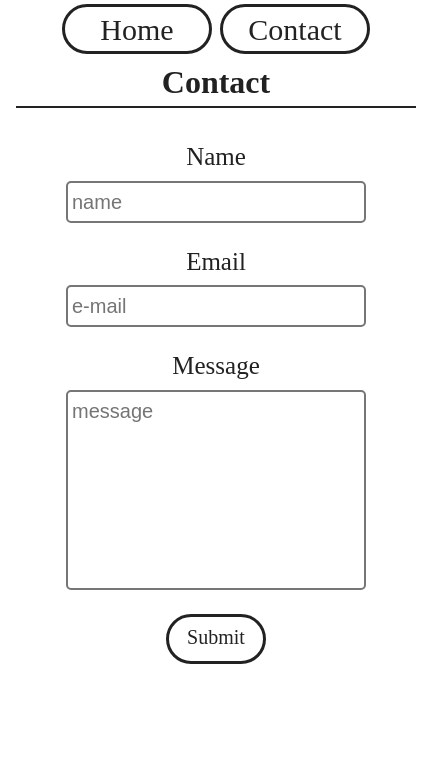
Test case: App › Submitting without filling form shows error
Click the button "Submit" at (216,639), box [166,614,266,664]
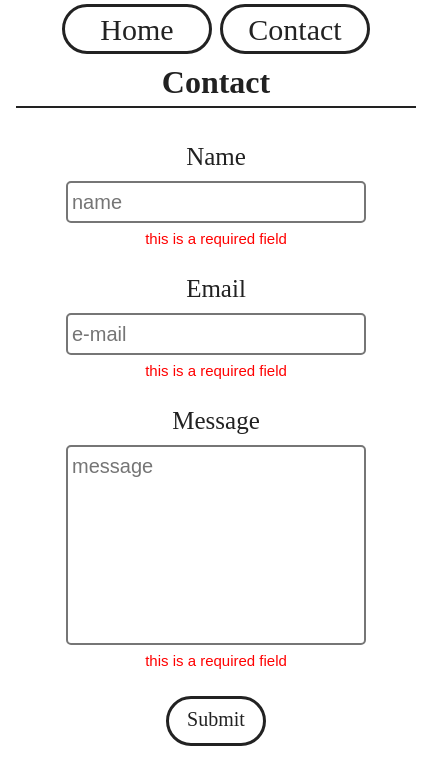
Check: the text "this is a required field" below "Name" is shown, box [145,230,287,247]
